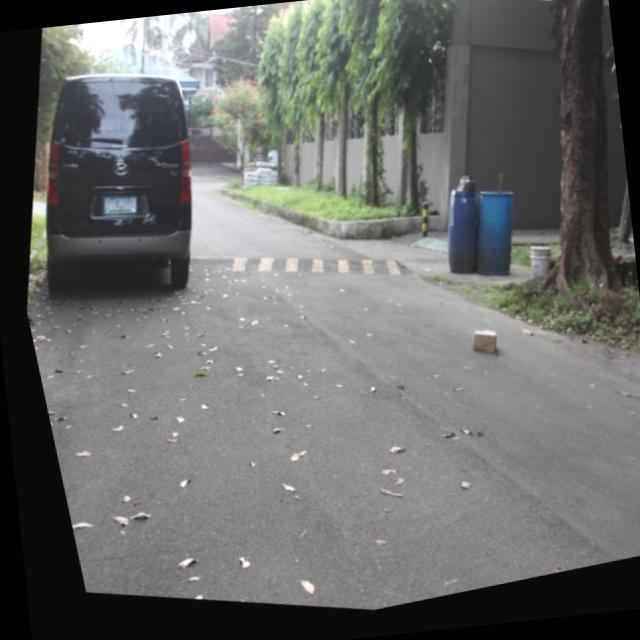Paper_Bag: (459, 334, 492, 366)
